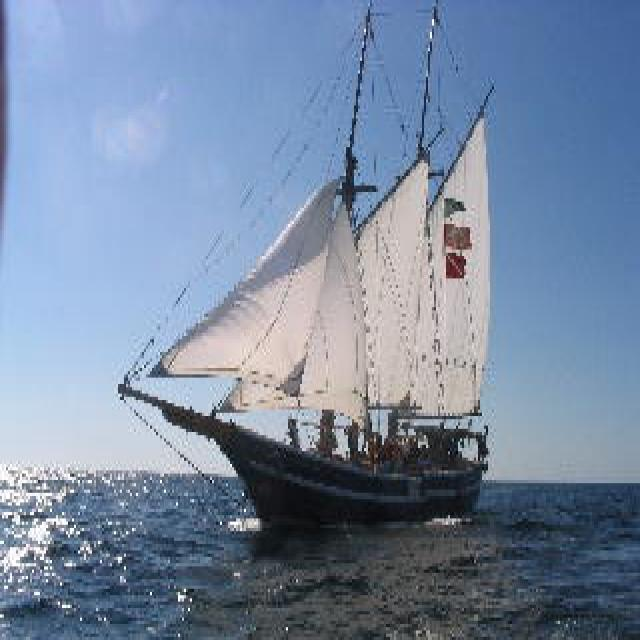Ship: (118, 38, 508, 552)
